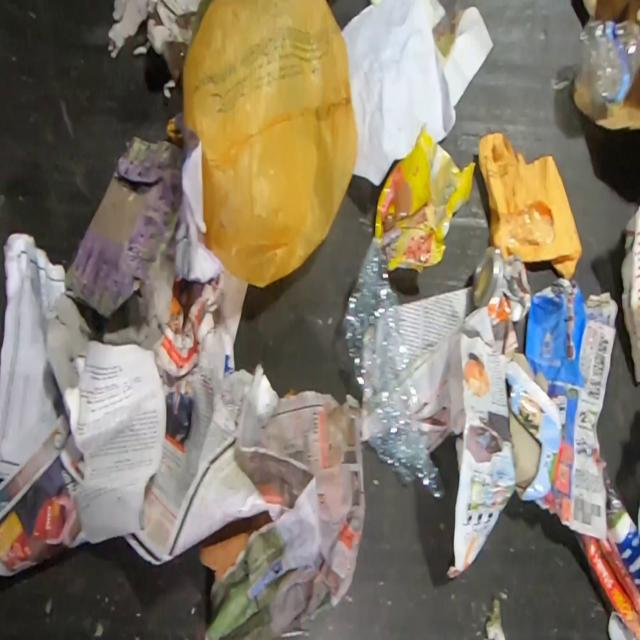cardboard: (63, 135, 187, 320), (199, 510, 274, 582)
metal: (472, 241, 536, 325)
rigid_plastic: (341, 237, 445, 499), (579, 15, 640, 106)
soft_plastic: (184, 1, 359, 293), (373, 123, 476, 273)
